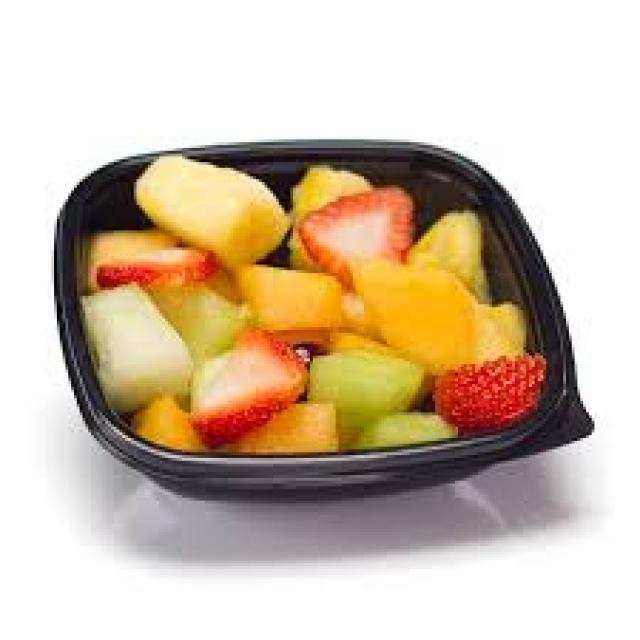Organik: (89, 234, 242, 407), (131, 149, 289, 262), (284, 154, 414, 266), (175, 327, 306, 436), (363, 254, 469, 378), (248, 245, 360, 340), (429, 347, 543, 419), (421, 198, 497, 299), (310, 342, 406, 421)
